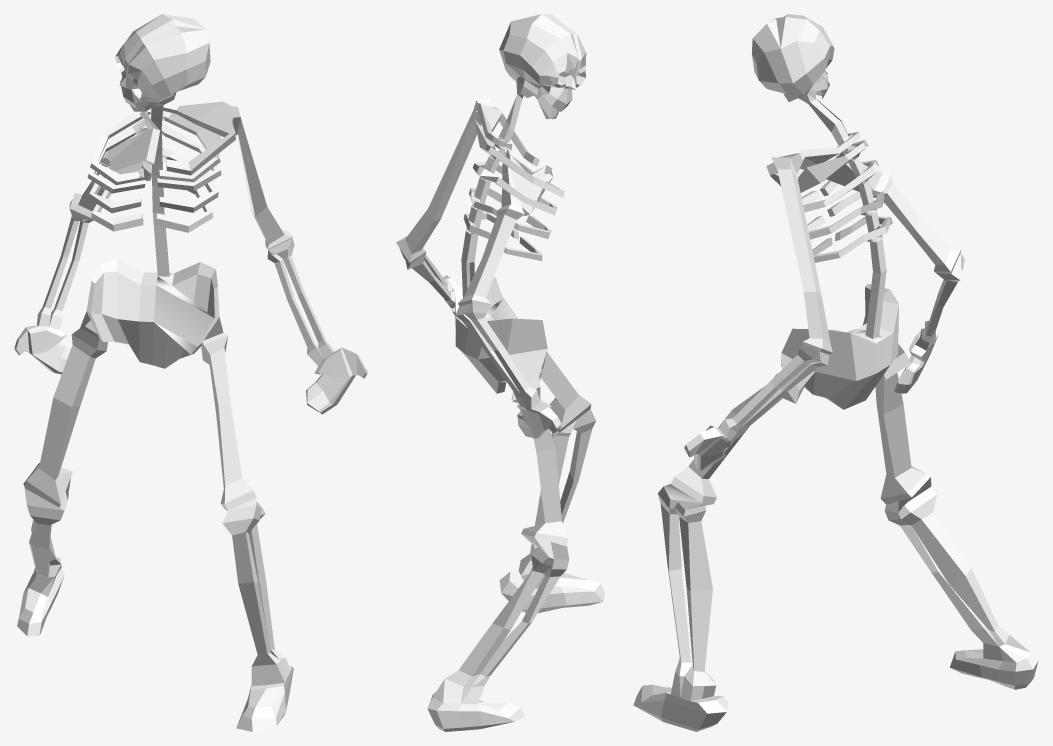
Rendered from SkeletonIdle(57).obj.
3 views of the same model, side by side, from view 1: azimuth 30°, elevation 25°; view 2: azimuth 150°, elevation 25°; view 3: azimuth 270°, elevation 25° (orthographic). The views are drawn at different scales.
Visible parts, largest first — view 1: Object002; view 2: Object002; view 3: Object002.
Part boxes in pixels (box(x1,y1,x2,y2)): Object002: box(14, 14, 367, 731); Object002: box(396, 14, 604, 731); Object002: box(633, 14, 1038, 731).
Bounding box in the file's own units: 416 × 1121 × 605.
